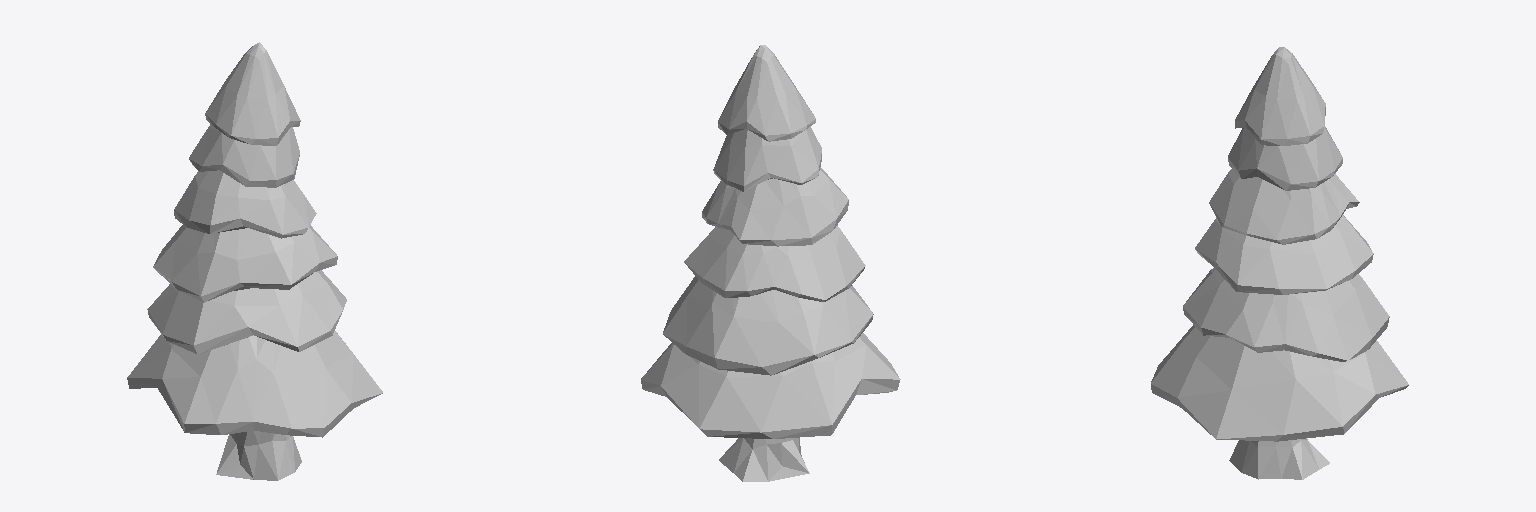
Rendered from pine_tree_1_autumn.obj.
3 renders of one model, left to right at view 1: azimuth 30°, elevation 25°; view 2: azimuth 150°, elevation 25°; view 3: azimuth 270°, elevation 25°, orthographic.
Parts seen in each view (by area): view 1: pine_tree_1_autumn; view 2: pine_tree_1_autumn; view 3: pine_tree_1_autumn.
Boxes of the visible parts, box(x1,y1,x2,y2) form: pine_tree_1_autumn: box(127, 42, 382, 480); pine_tree_1_autumn: box(641, 45, 900, 481); pine_tree_1_autumn: box(1151, 47, 1408, 479).
Size of the model in its own units: 2.75 by 5.42 by 3.01.